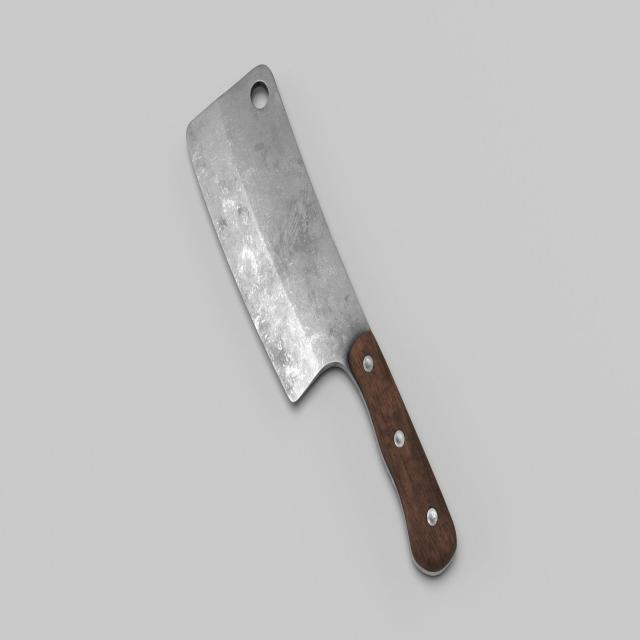cleaver: (187, 64, 457, 574)
